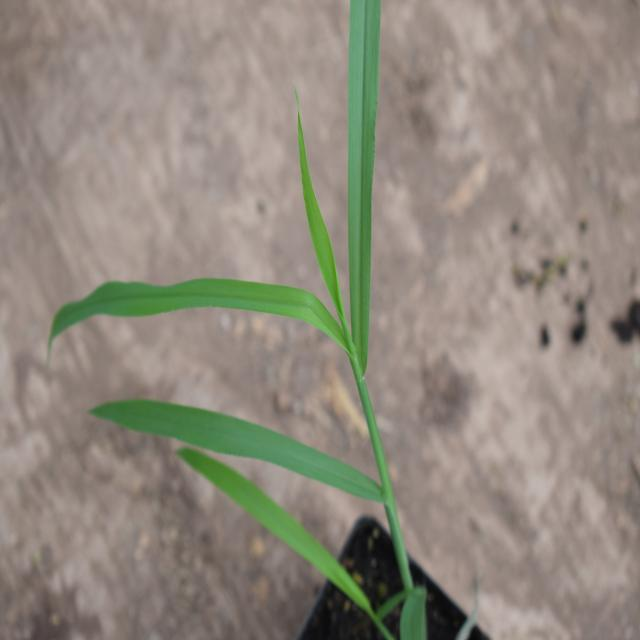crabgrass: (82, 0, 442, 587)
